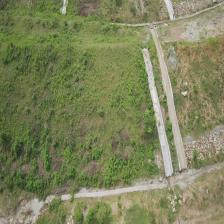rock_toe: (185, 129, 224, 169)
slope_drain: (150, 24, 189, 172), (141, 45, 174, 178)
